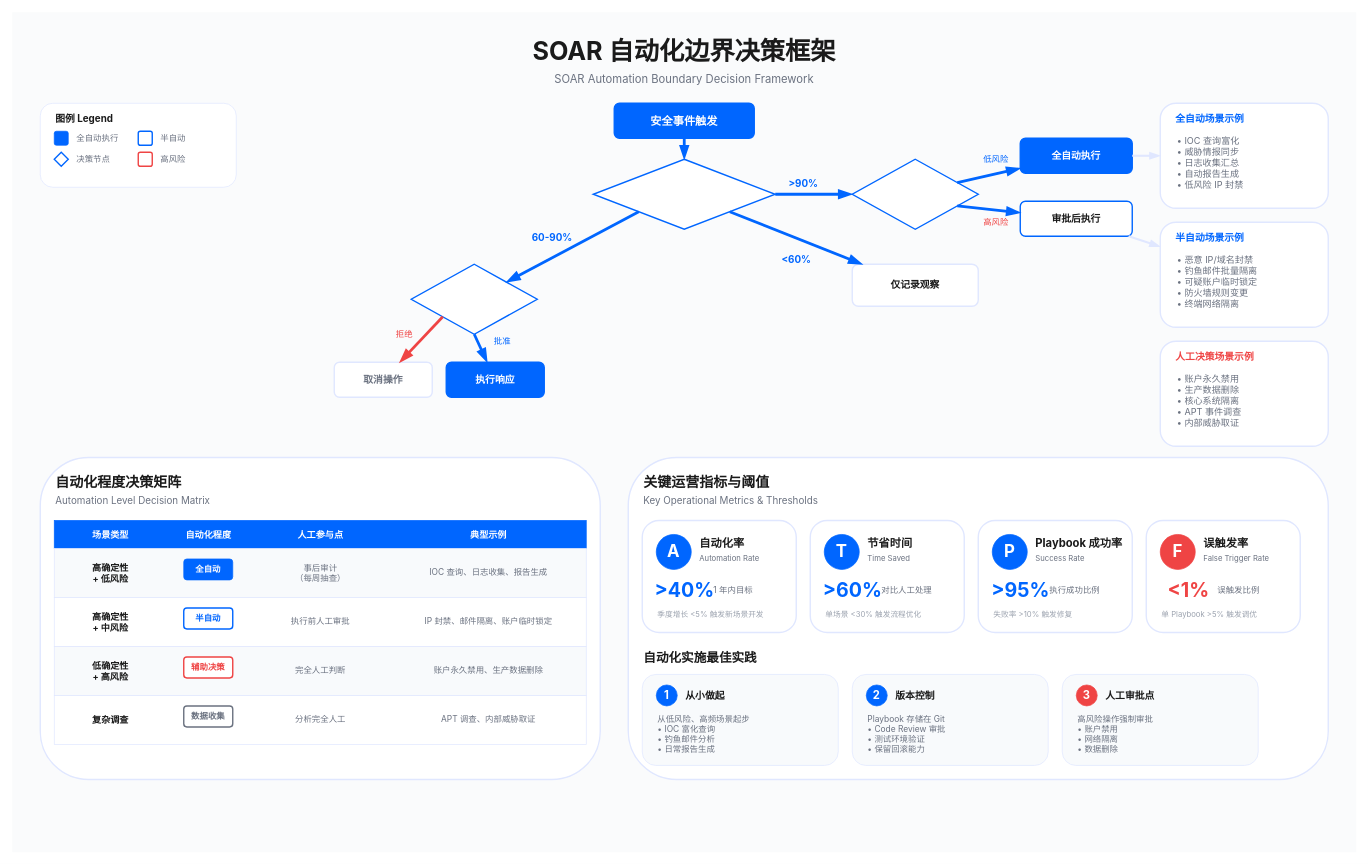
The diagram is 1368 pixels wide and 864 high, and some of its shapes have lost their labels. Each missing label, with the box of its shape:
威胁情报 置信度评估: (592, 158, 776, 230)
操作风险等级: (851, 158, 979, 230)
需人工审批: (410, 263, 538, 335)
